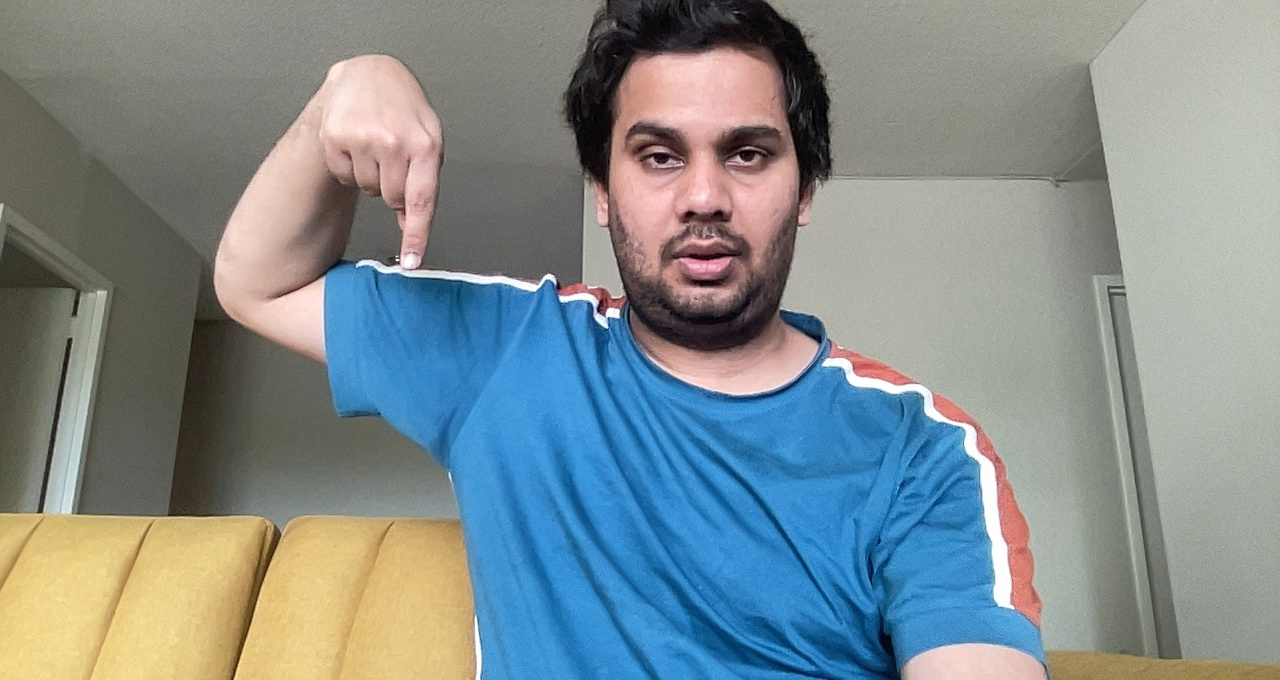fingerdown: (320, 52, 449, 277)
